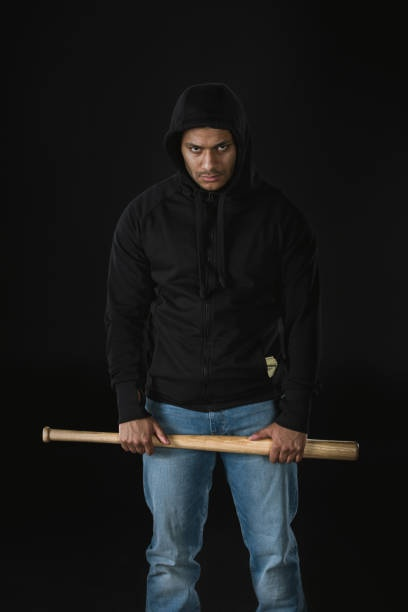bita: (29, 418, 369, 457)
